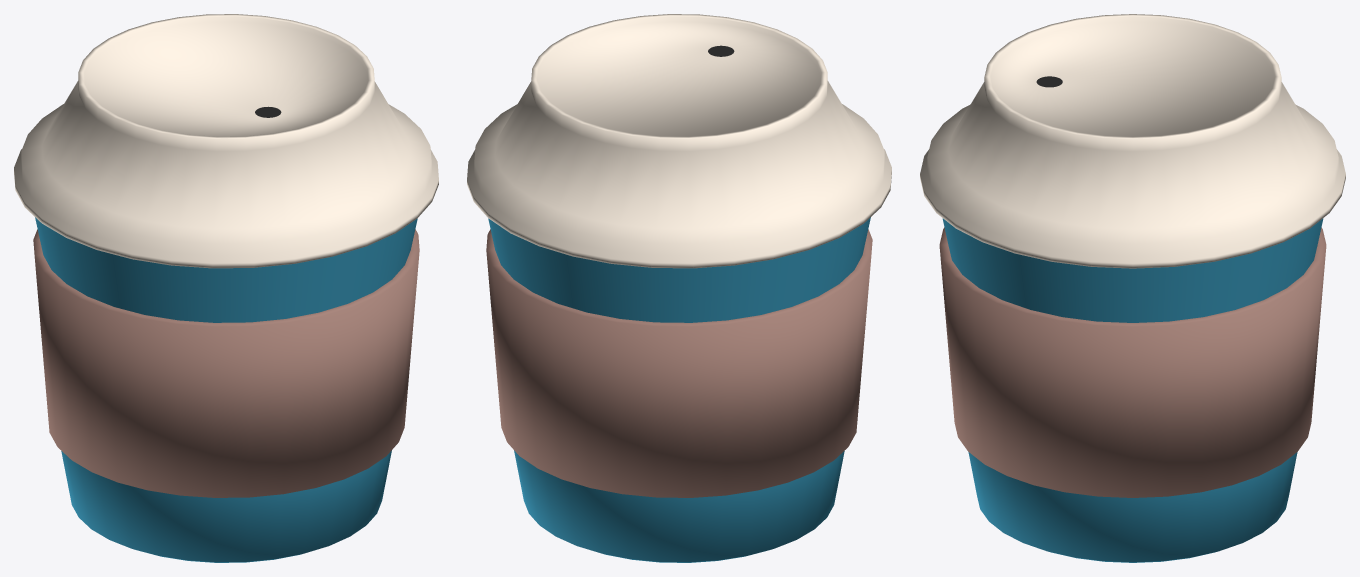
The model's file is coffee.fbx.
The picture shows the model from 3 angles, left to right: view 1: azimuth 30°, elevation 25°; view 2: azimuth 150°, elevation 25°; view 3: azimuth 270°, elevation 25°; orthographic projection.
Visible parts, largest first — view 1: coffee.006; view 2: coffee.006; view 3: coffee.006.
Part boxes in pixels (left/top/right/bottom): coffee.006: left=14, top=14, right=438, bottom=562; coffee.006: left=467, top=14, right=891, bottom=562; coffee.006: left=920, top=14, right=1345, bottom=562.
Bounding box in the file's own units: 161 × 177 × 161.
